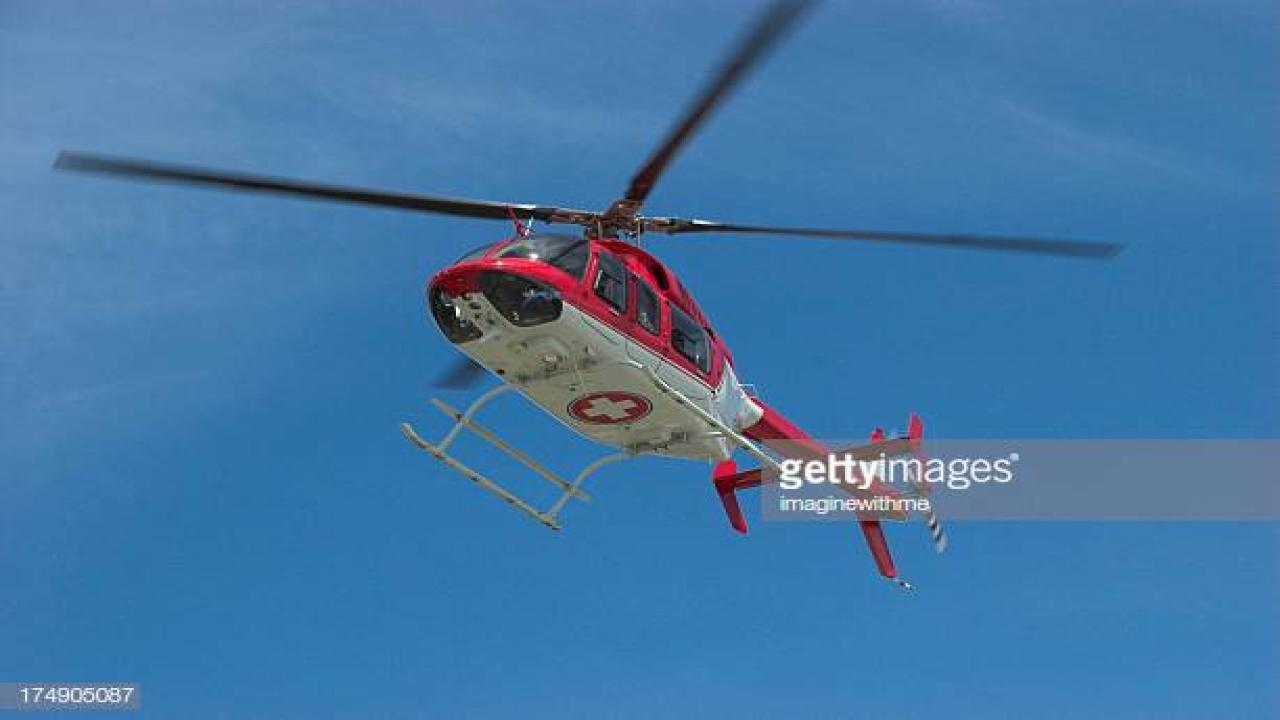Helicopter: (42, 0, 1140, 592)
